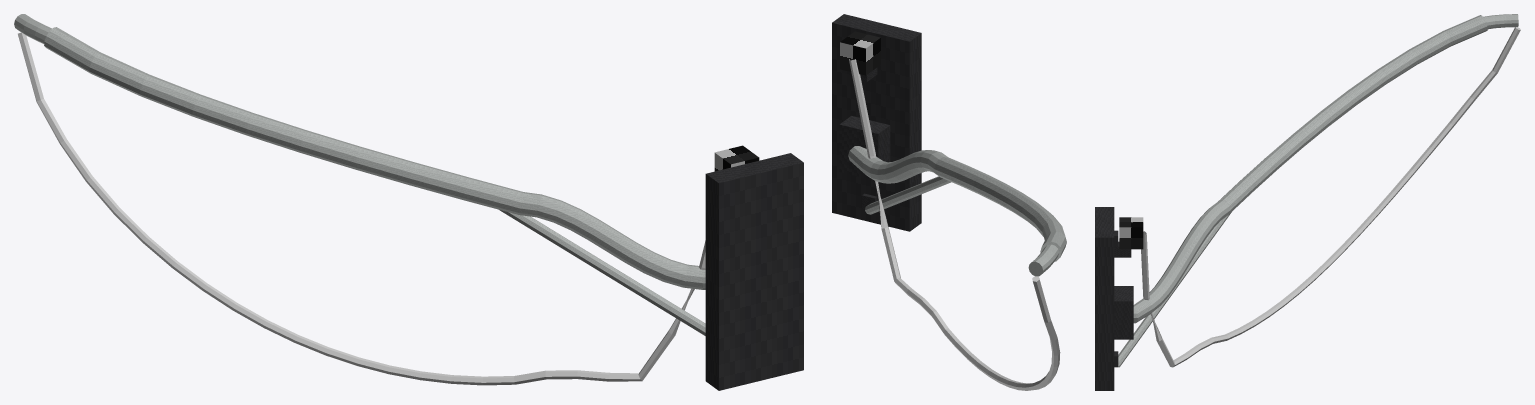
Rendered from arm_3_left_wired.obj.
The picture shows the model from 3 angles, left to right: view 1: azimuth 30°, elevation 25°; view 2: azimuth 150°, elevation 25°; view 3: azimuth 270°, elevation 25°; orthographic projection. The views are drawn at different scales.
Visible parts, largest first — view 1: pole_light_mount_3_left_wired; view 2: pole_light_mount_3_left_wired; view 3: pole_light_mount_3_left_wired.
Boxes of the visible parts, x1,y1,x2,y2 form: pole_light_mount_3_left_wired: (14,14,803,390); pole_light_mount_3_left_wired: (832,14,1066,390); pole_light_mount_3_left_wired: (1095,14,1520,390).
Size of the model in its own units: 2.22 by 1.27 by 2.2.
